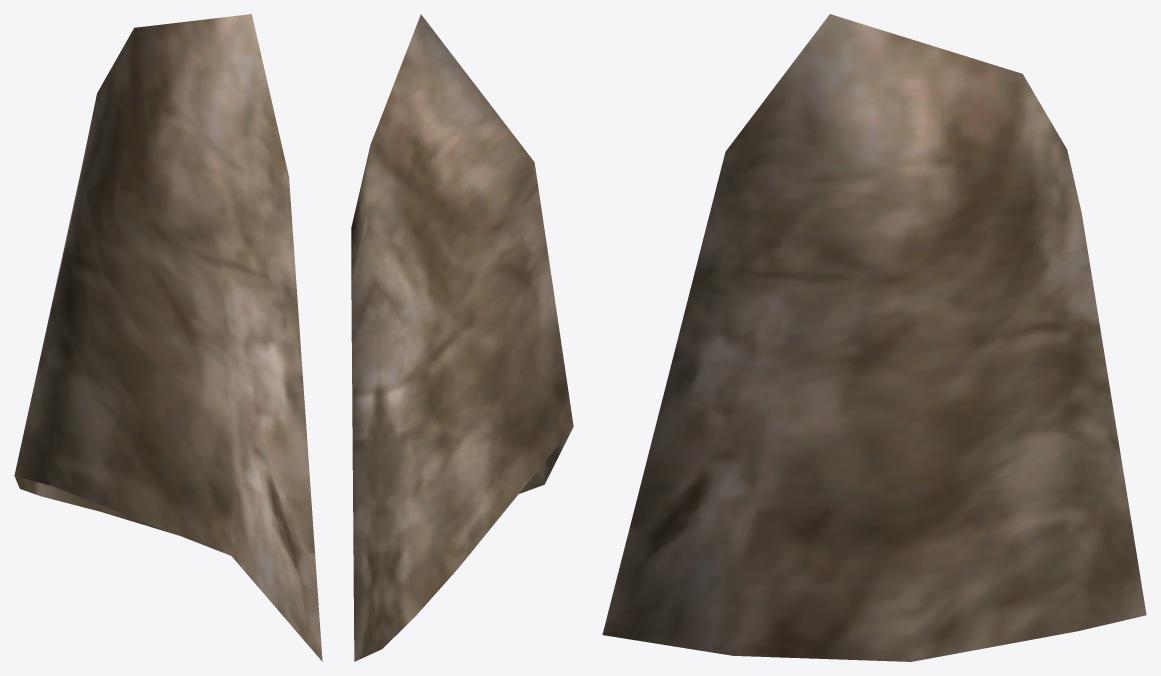
File: OVERHILL_A_01_ROCK28.fbx
3 views of the same model, side by side, from view 1: azimuth 30°, elevation 25°; view 2: azimuth 150°, elevation 25°; view 3: azimuth 270°, elevation 25° (orthographic). The views are drawn at different scales.
Visible parts, largest first — view 1: OVERHILL_A_01_ROCK28; view 2: OVERHILL_A_01_ROCK28; view 3: OVERHILL_A_01_ROCK28.
Part boxes in pixels (x1,y1,x2,y2): OVERHILL_A_01_ROCK28: [14, 14, 322, 661]; OVERHILL_A_01_ROCK28: [351, 14, 573, 661]; OVERHILL_A_01_ROCK28: [602, 14, 1146, 661].
Size of the model in its own units: 7680 by 29929 by 23072.
1 material, 1 textured.
